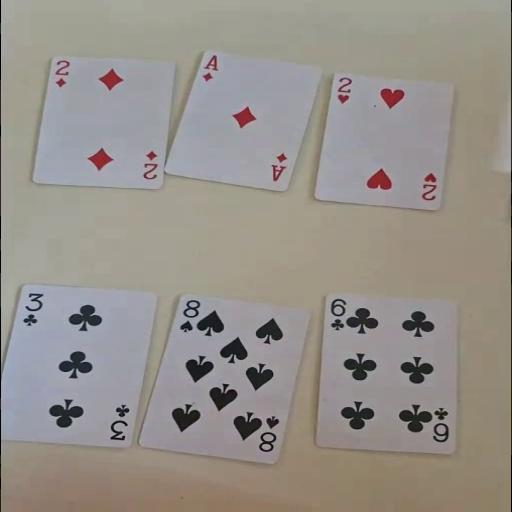2: (52, 58, 72, 88), (419, 170, 438, 201), (140, 148, 158, 180), (334, 76, 353, 104)
3: (107, 402, 131, 441), (20, 291, 45, 327)
6: (430, 406, 450, 443), (328, 296, 348, 332)
8: (256, 414, 280, 453), (176, 298, 202, 333)
A: (268, 151, 289, 183), (199, 53, 219, 82)
